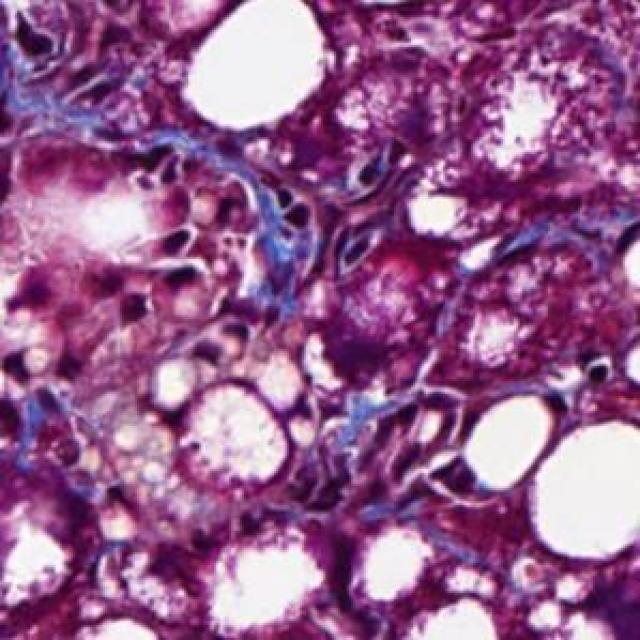inflammation: (308, 392, 478, 524), (99, 222, 222, 330), (0, 347, 88, 458)
